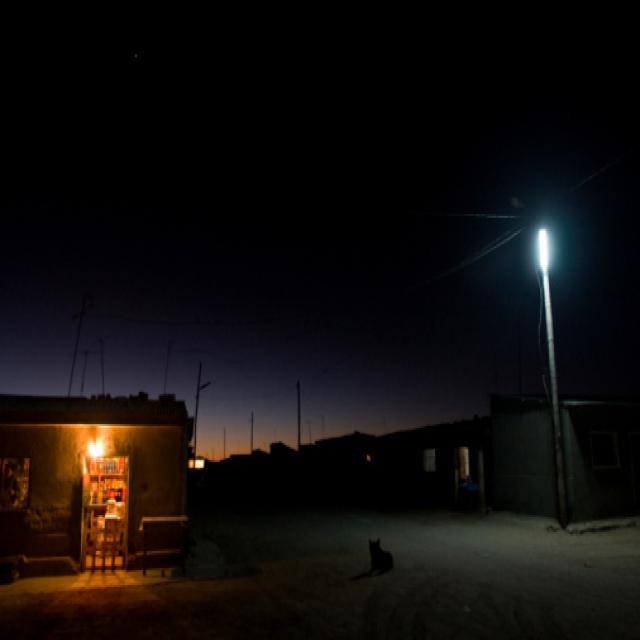dog: (354, 509, 396, 587)
